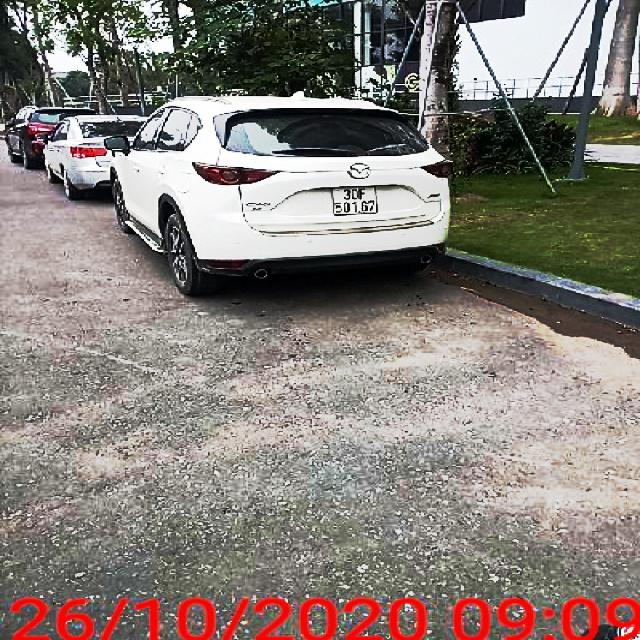license_plate: (332, 188, 379, 216)
